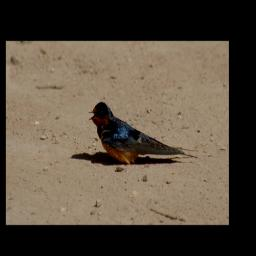Swallow: (89, 101, 198, 163)
